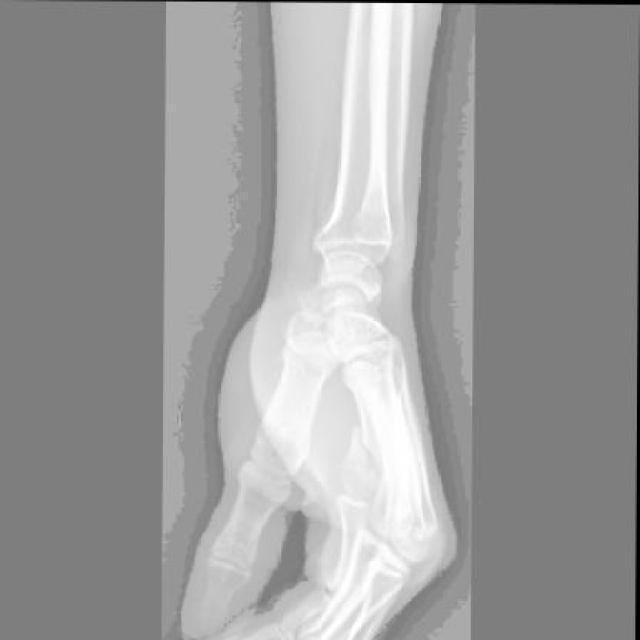Fracture: (340, 422, 393, 499)
